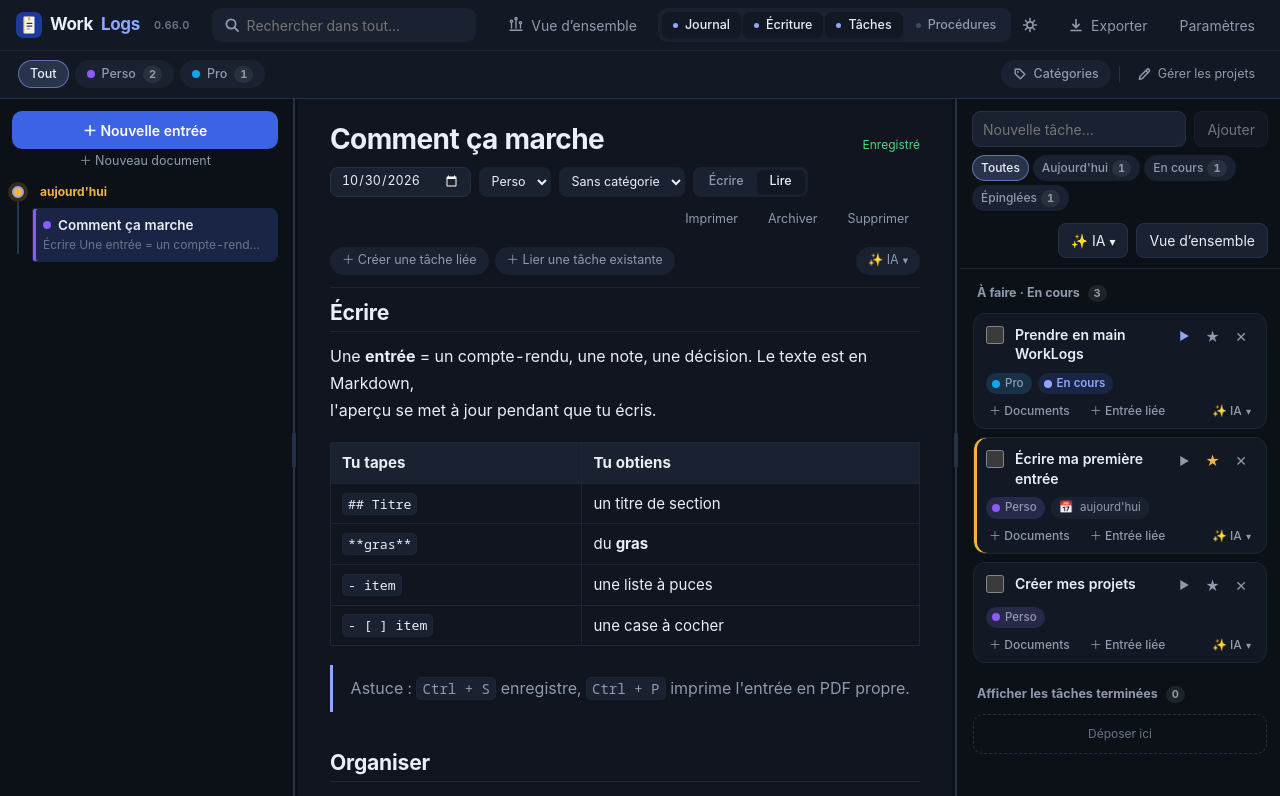
Test case: PWA locale (mêmes écrans, backend IndexedDB/mémoire) › créer une entrée et une tâche depuis l’interface, sans serveur
Click the button "＋ Nouvelle entrée".
click(145, 130)  # box [12,111,278,149]
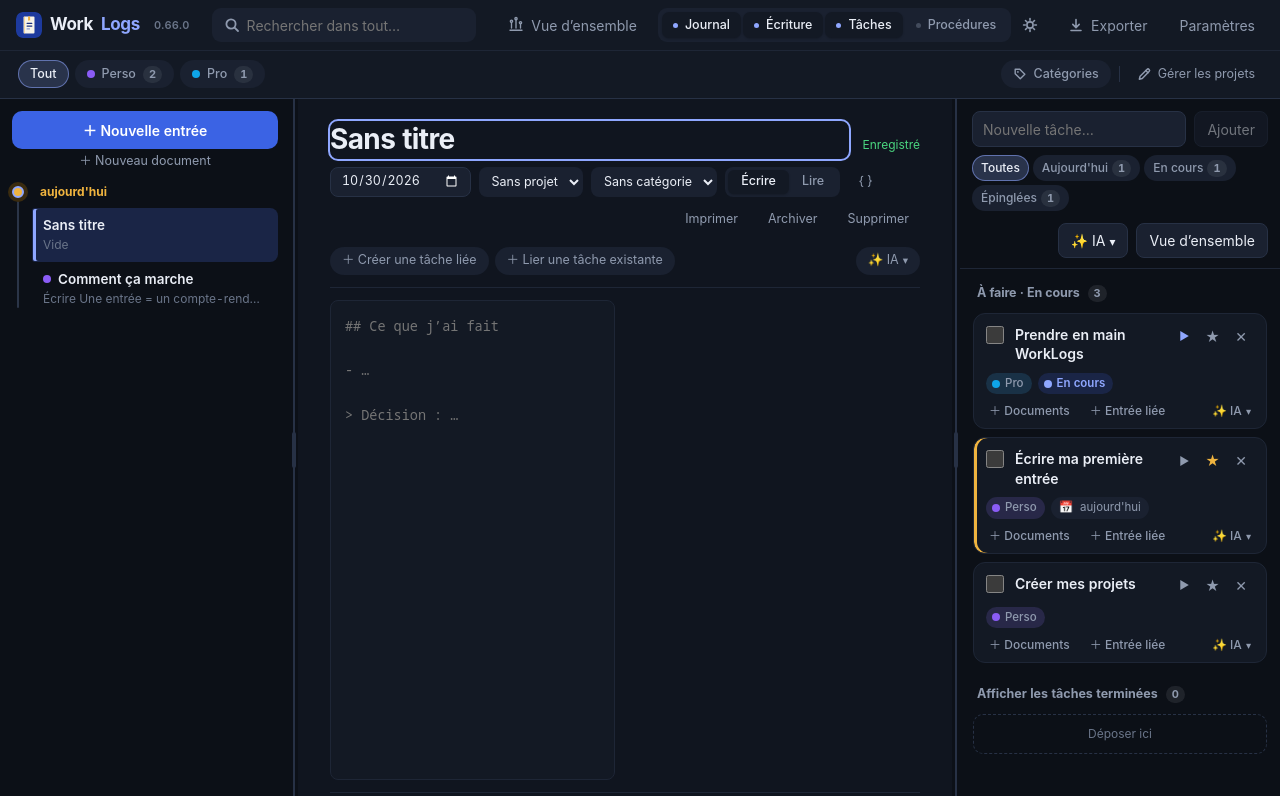
Expected: the field named "Titre de l’entrée" holds "Sans titre"
L'éditeur montre d'abord l'entrée d'amorçage : attendre que la nouvelle le remplace.
Clear the field named "Titre de l’entrée" at (589, 140), box [330,121,848,159]
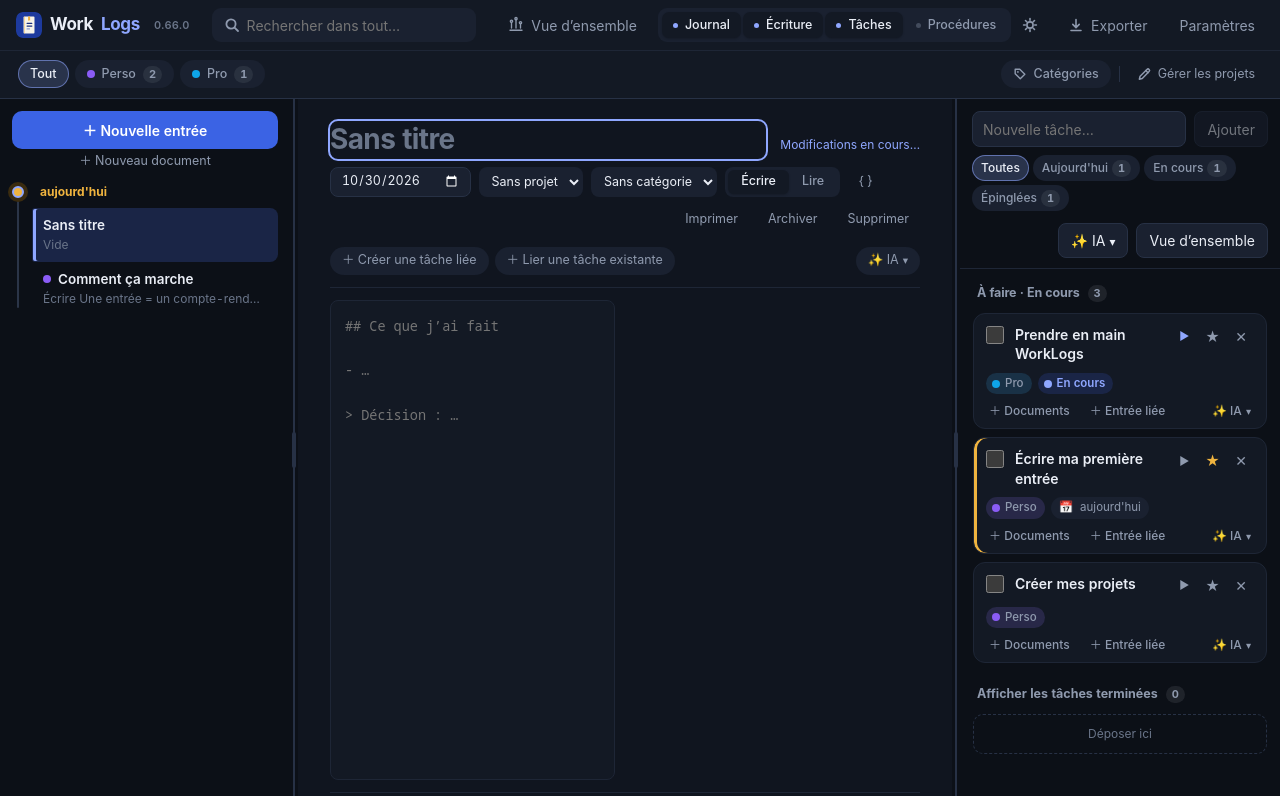
Type keys "Marché fermier"
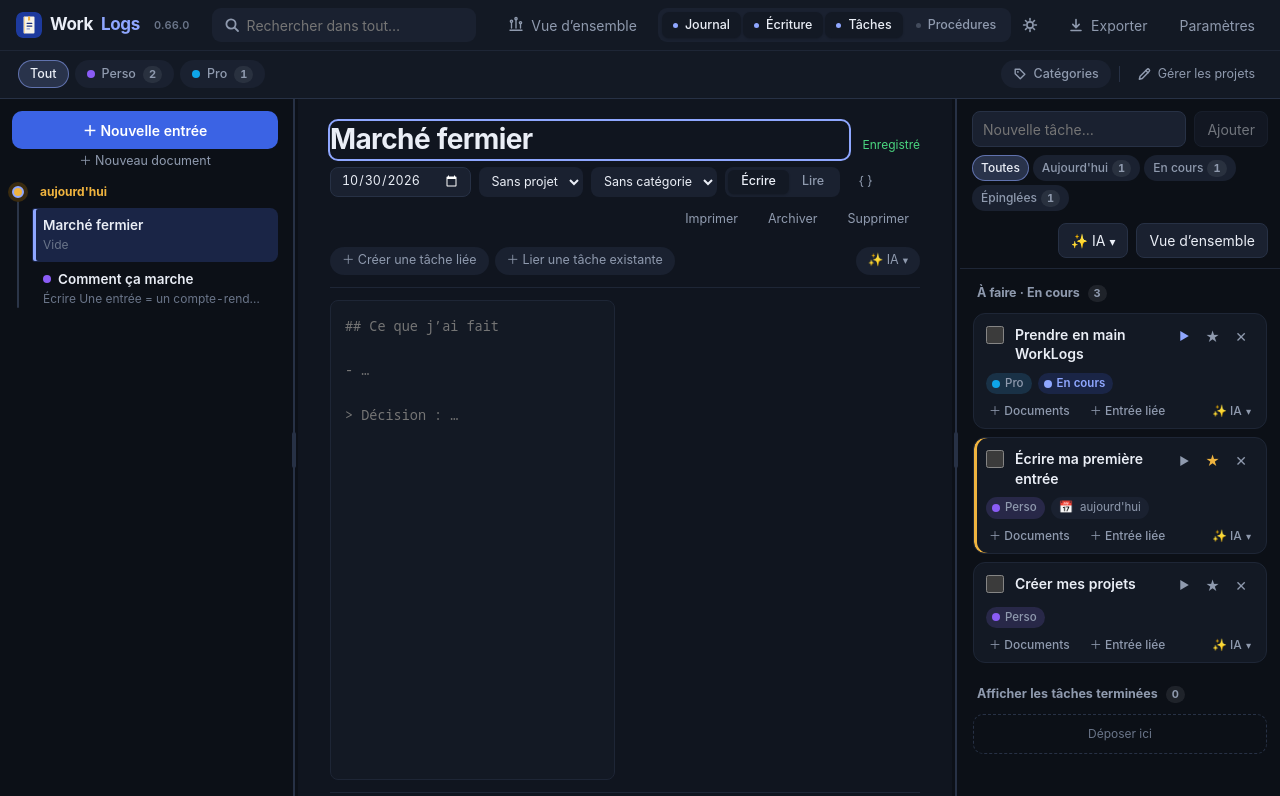
Expected: the text "Enregistré" is shown, [862,136,920,154]
Expected: the text "Marché fermier" is shown, [43,217,143,233]
Click the field labelled "Nouvelle tâche".
click(1079, 129)  # box [972,111,1186,147]
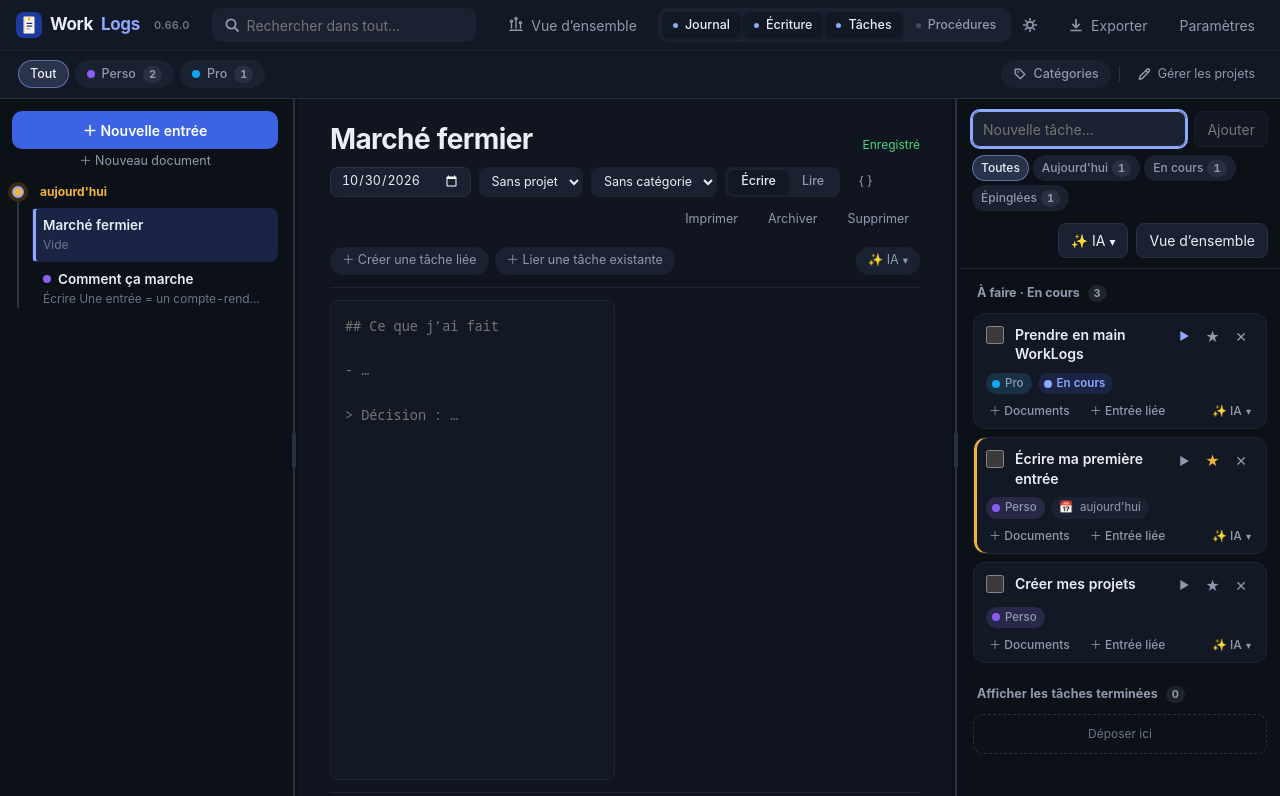
Type keys "Acheter des plants"
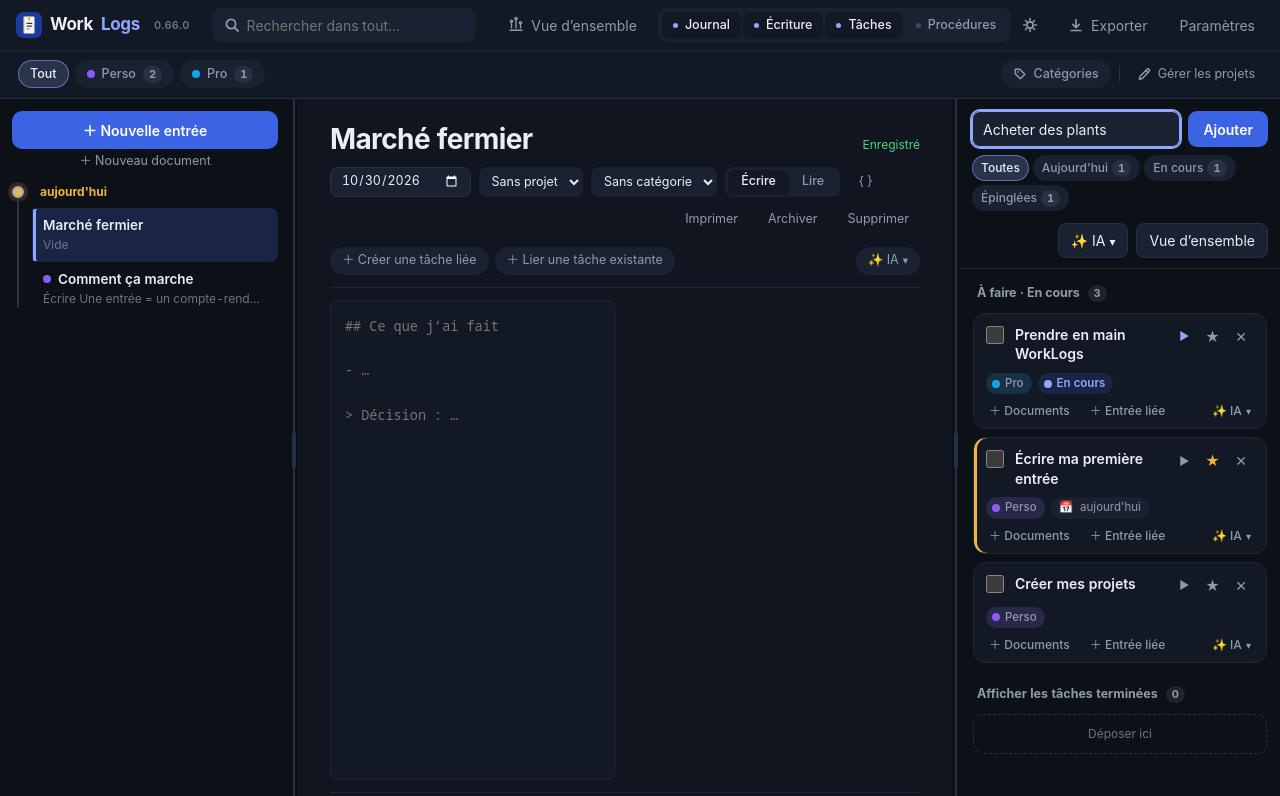
Press Enter
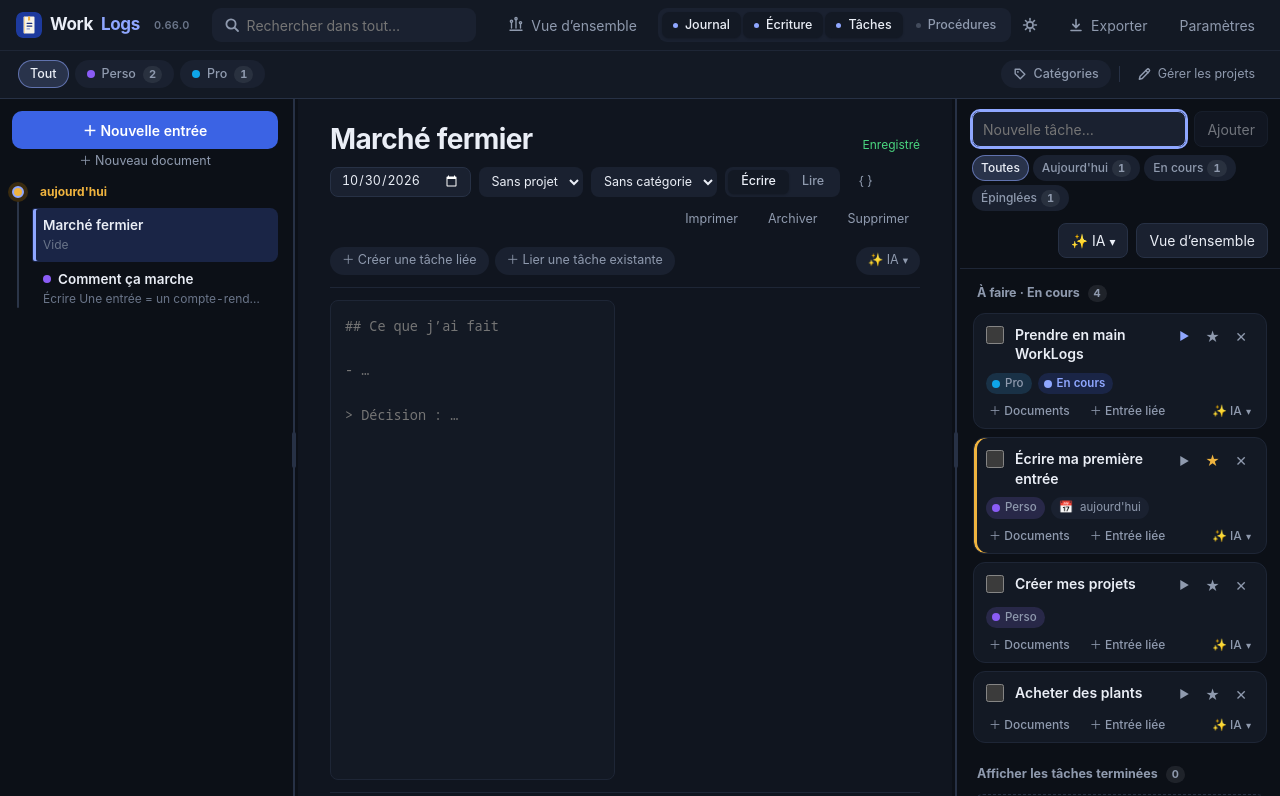
Expected: the button "Acheter des plants" is shown, [1014,682,1161,704]
